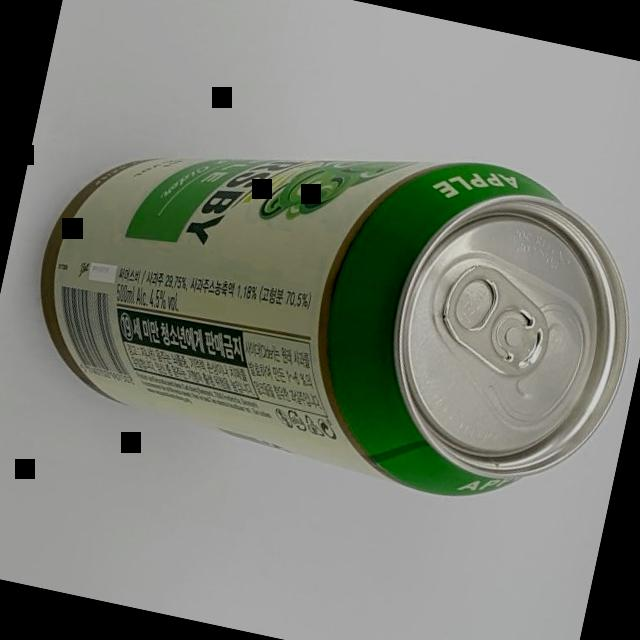can: (9, 76, 640, 526)
